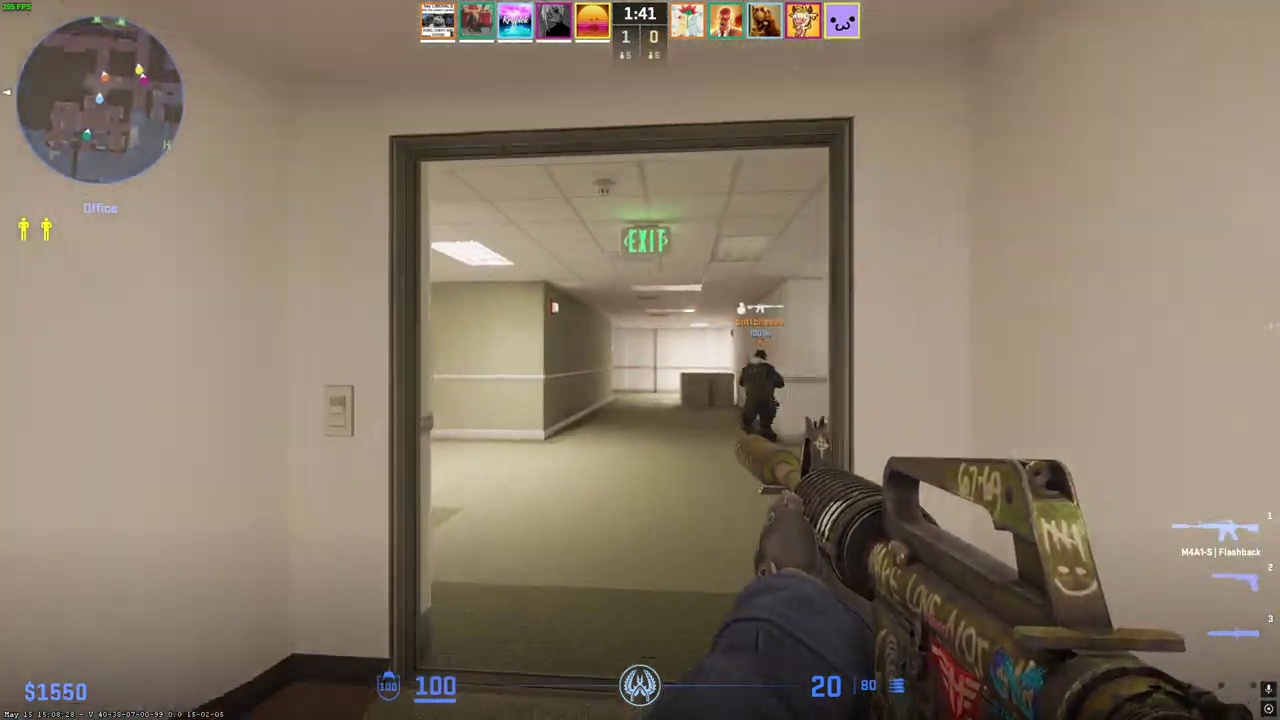CT: (740, 349, 784, 443)
